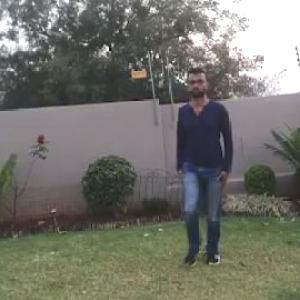follow: (177, 68, 231, 269)
